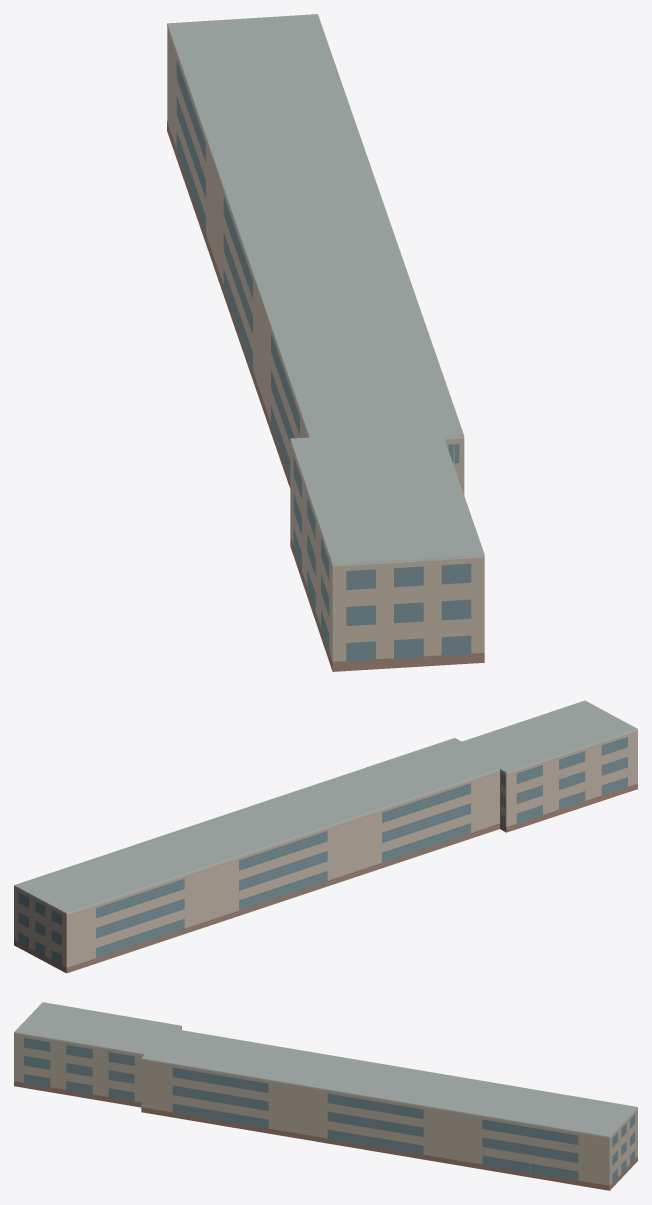
File: survey-upis-32681436.glb
The picture shows the model from 3 angles, top to bottom: view 1: azimuth 30°, elevation 25°; view 2: azimuth 150°, elevation 25°; view 3: azimuth 270°, elevation 25°; orthographic projection. The views are drawn at different scales.
Visible parts, largest first — view 1: survey-upis-32681436.tmp; view 2: survey-upis-32681436.tmp; view 3: survey-upis-32681436.tmp.
Boxes of the visible parts, x1,y1,x2,y2 form: survey-upis-32681436.tmp: (167, 14, 484, 671); survey-upis-32681436.tmp: (14, 700, 637, 973); survey-upis-32681436.tmp: (14, 1002, 637, 1190).
Bounding box in the file's own units: 49.01 × 9.15 × 95.87.
